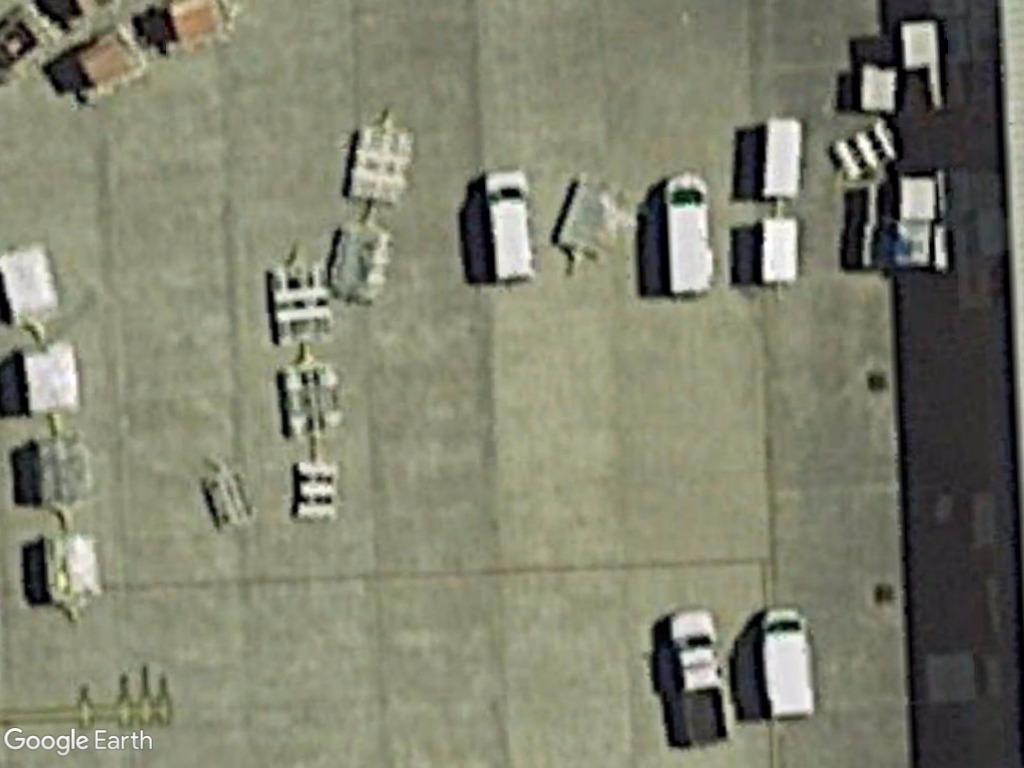other: (662, 603, 738, 747)
van: (660, 167, 721, 306), (479, 163, 544, 288), (757, 599, 818, 724)
